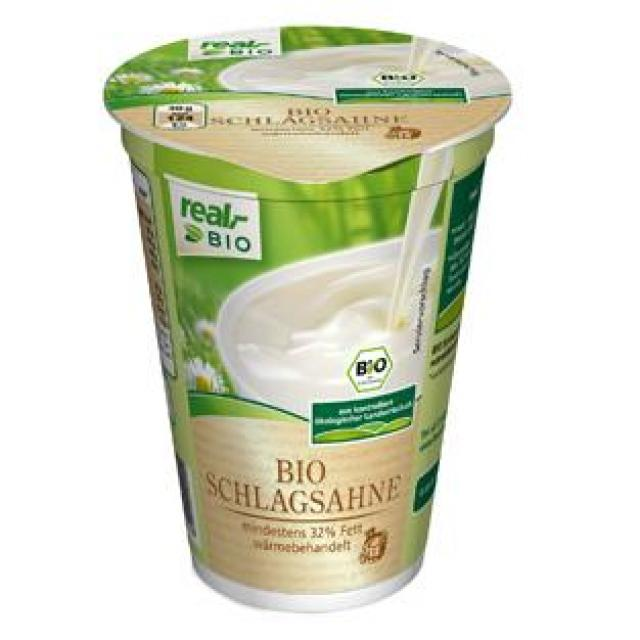Cream: (104, 27, 509, 611)
